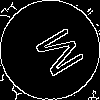M: (25, 25, 86, 84)
